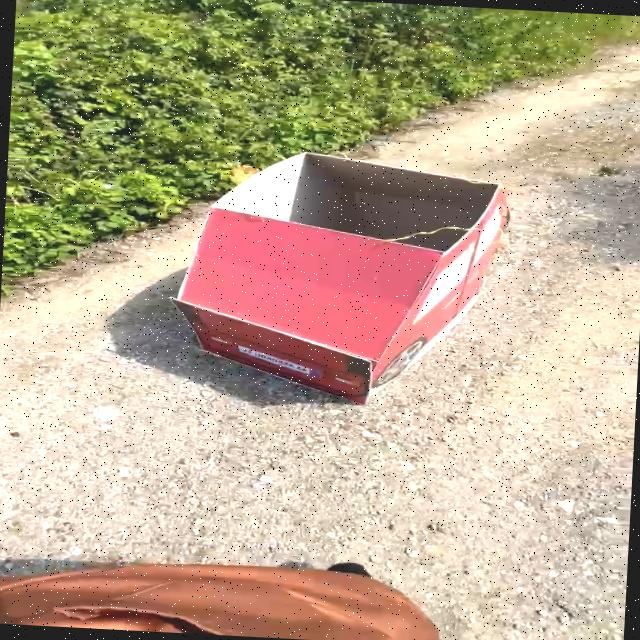red_car: (126, 121, 595, 427)
